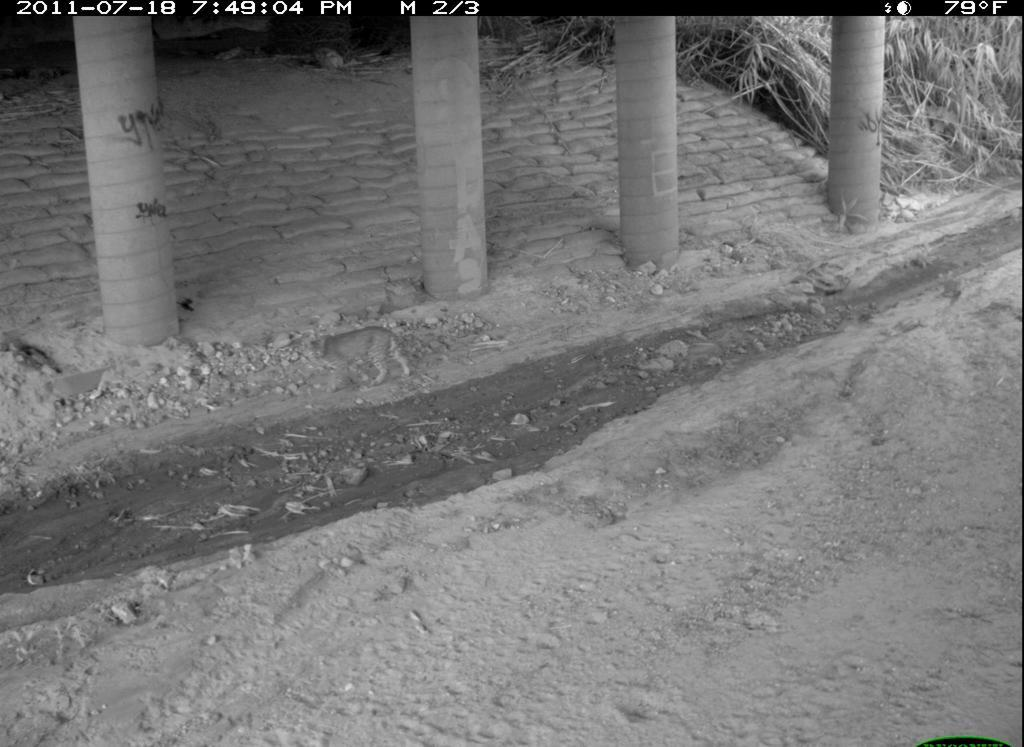bobcat: (598, 637, 840, 747)
